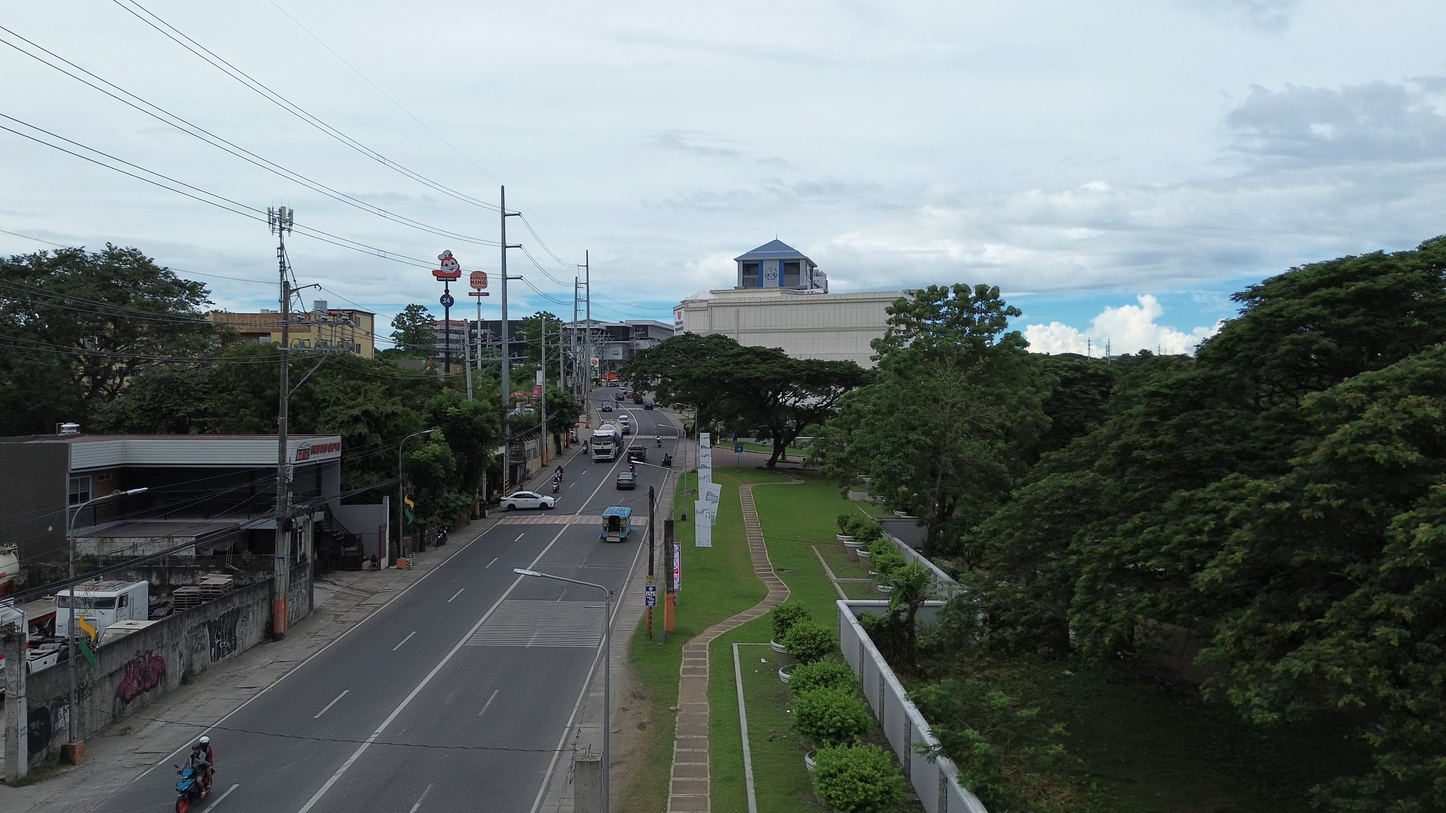car: (502, 491, 554, 510), (616, 472, 637, 489), (601, 402, 613, 412), (614, 391, 624, 402), (643, 400, 654, 410)
motorcycle: (176, 765, 209, 813), (661, 454, 672, 467), (552, 480, 560, 493)
vehicle: (55, 581, 149, 636), (99, 619, 155, 644), (600, 506, 632, 542), (590, 423, 620, 461), (0, 545, 19, 597), (627, 445, 647, 461), (661, 454, 672, 467), (631, 394, 644, 405), (600, 402, 613, 412), (613, 391, 624, 402), (643, 400, 654, 410)
